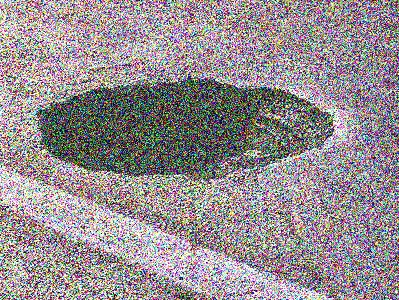pothole: (33, 73, 343, 183)
